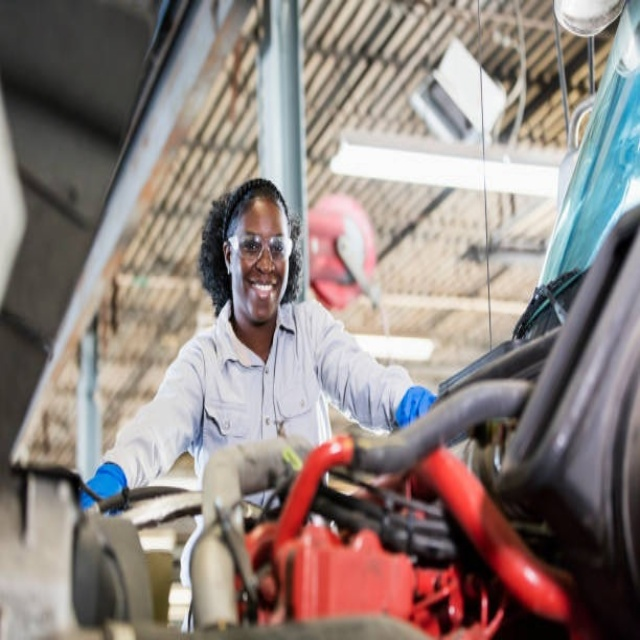Gafas: (229, 233, 291, 262)
Guantes: (78, 463, 127, 515), (395, 386, 437, 427)
Sin_mascara: (244, 273, 279, 315)
